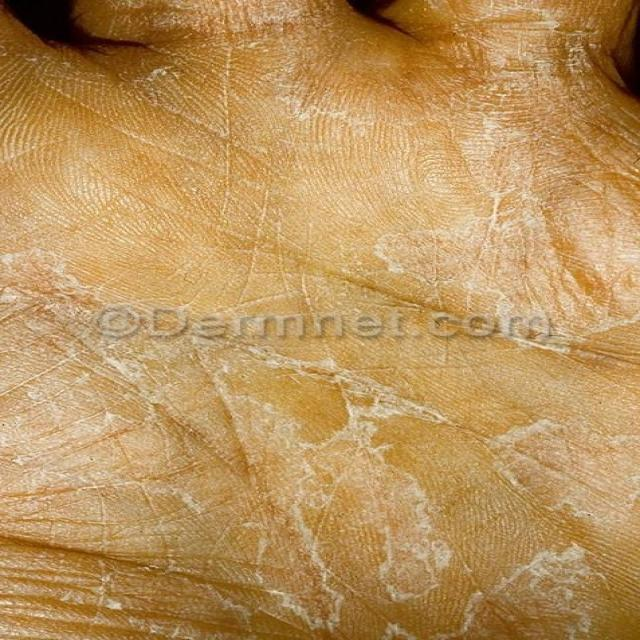Eczema: (0, 7, 628, 639)
